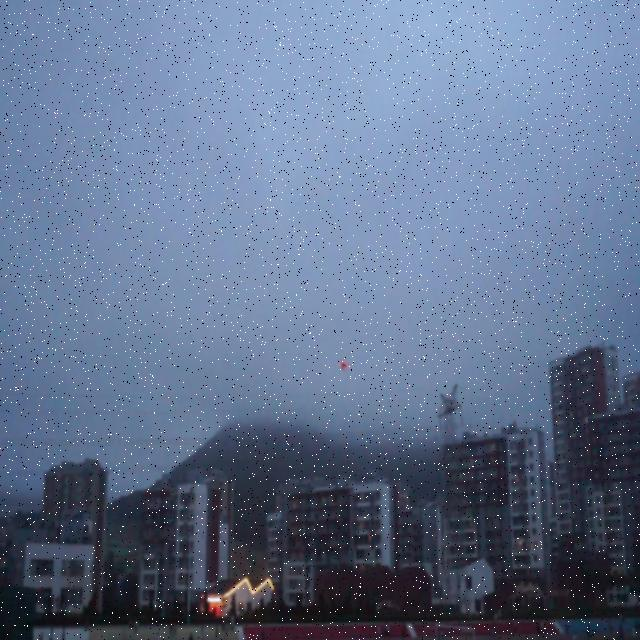UAV: (338, 360, 350, 371)
